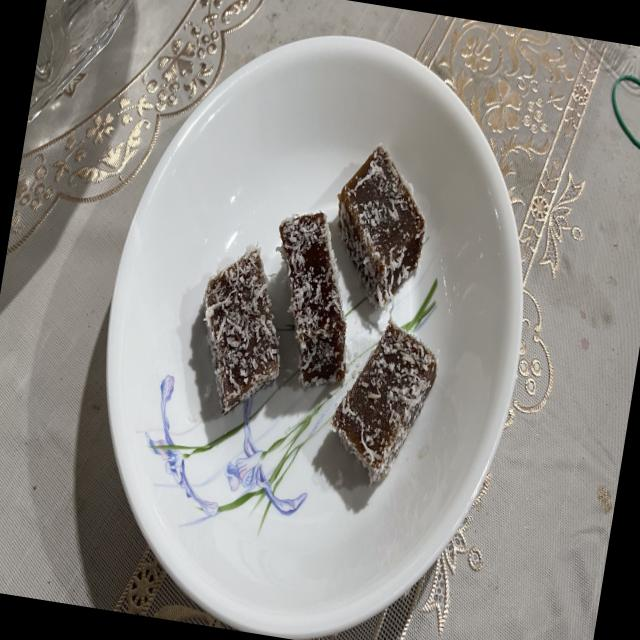kaswi: (332, 320, 437, 483), (338, 145, 425, 308), (203, 246, 280, 413), (280, 212, 346, 388)
